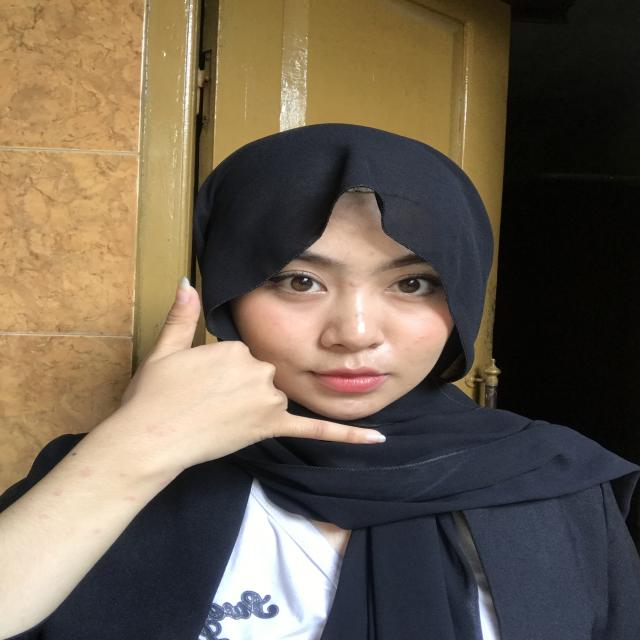telpon: (121, 265, 389, 458)
